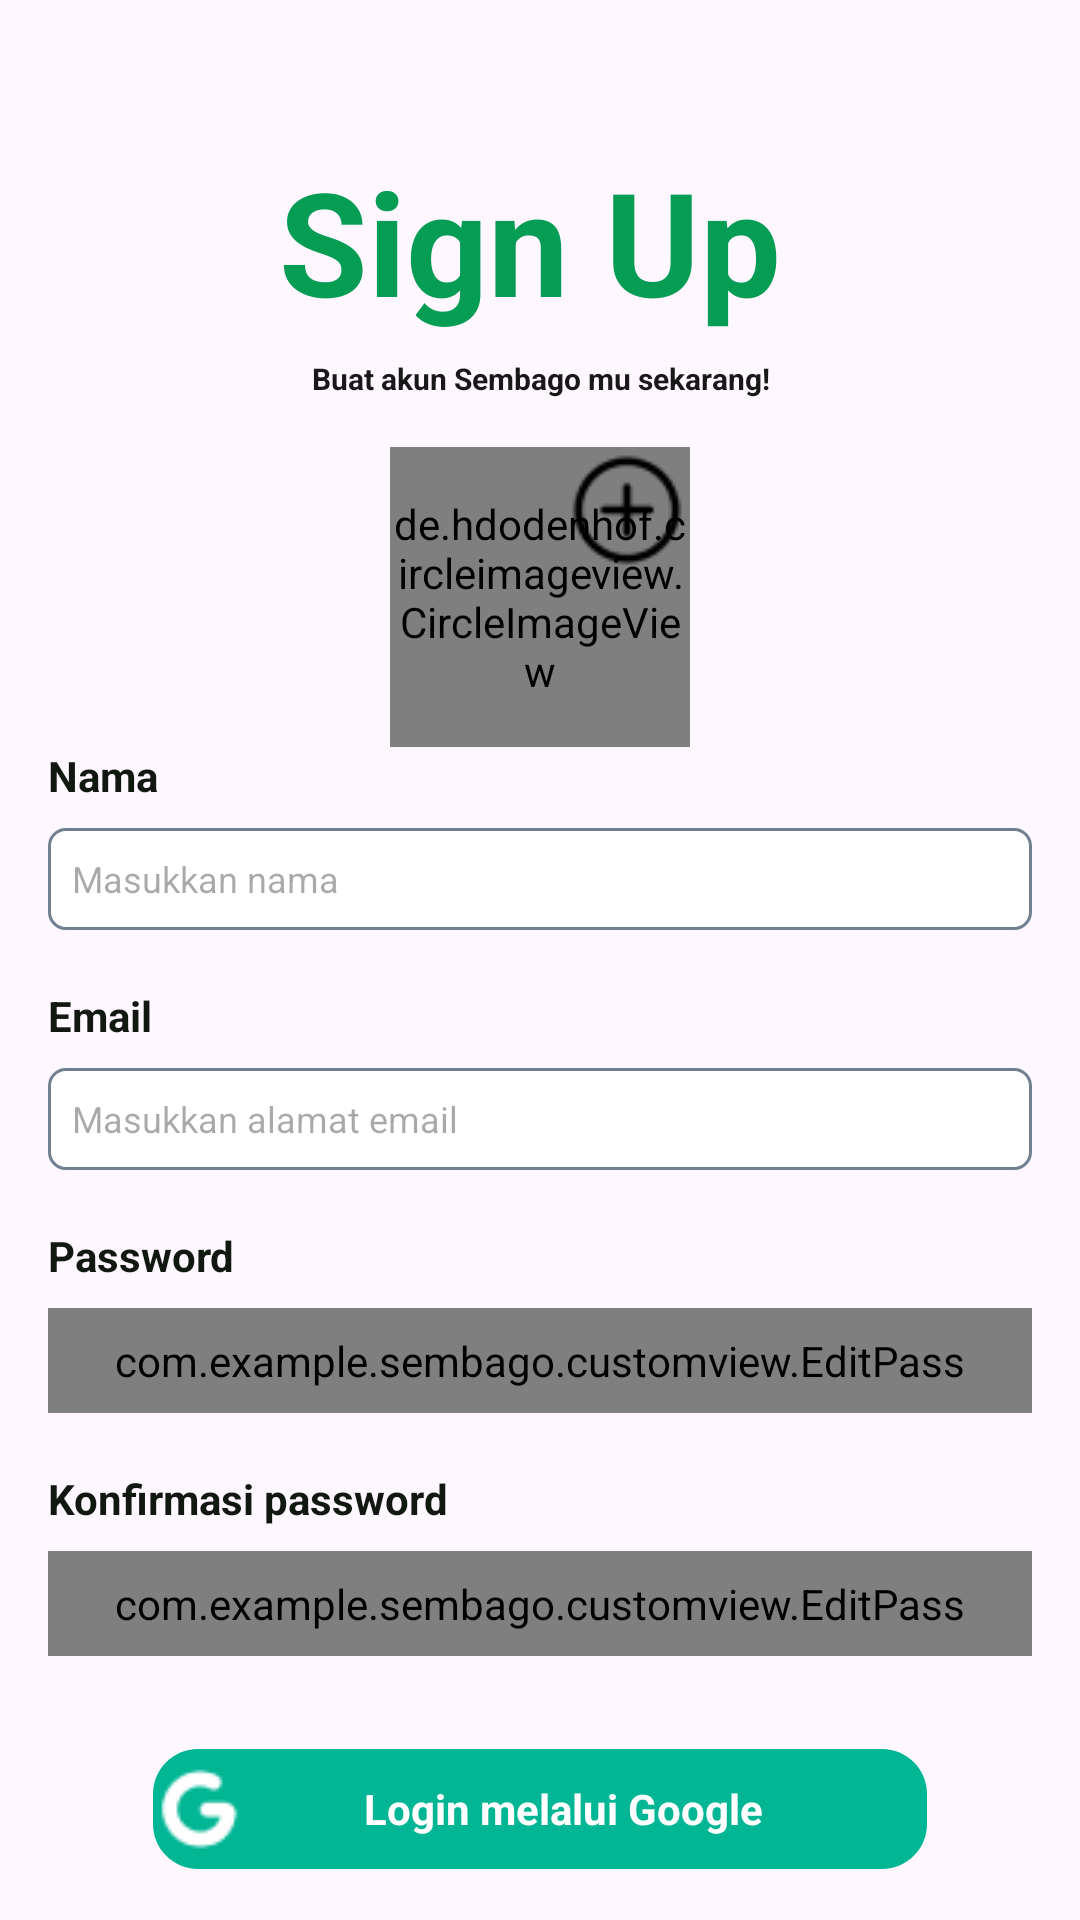

Icons on this 1080w x 1920h Android screen, each with the point to tap as (x,y):
plus: (627,510)
